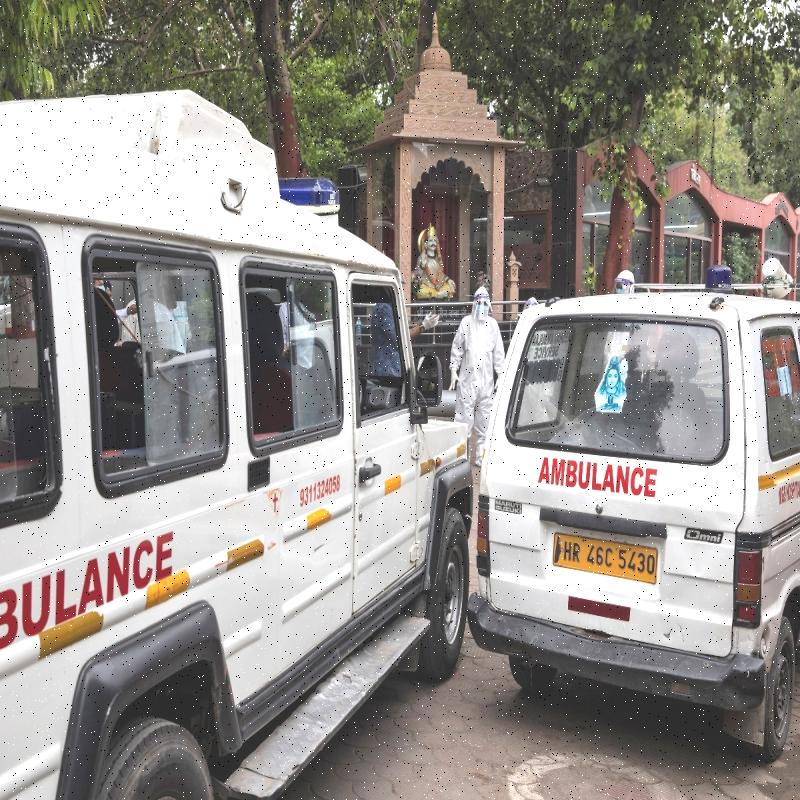ambulance: (0, 90, 505, 786), (468, 236, 800, 783)
